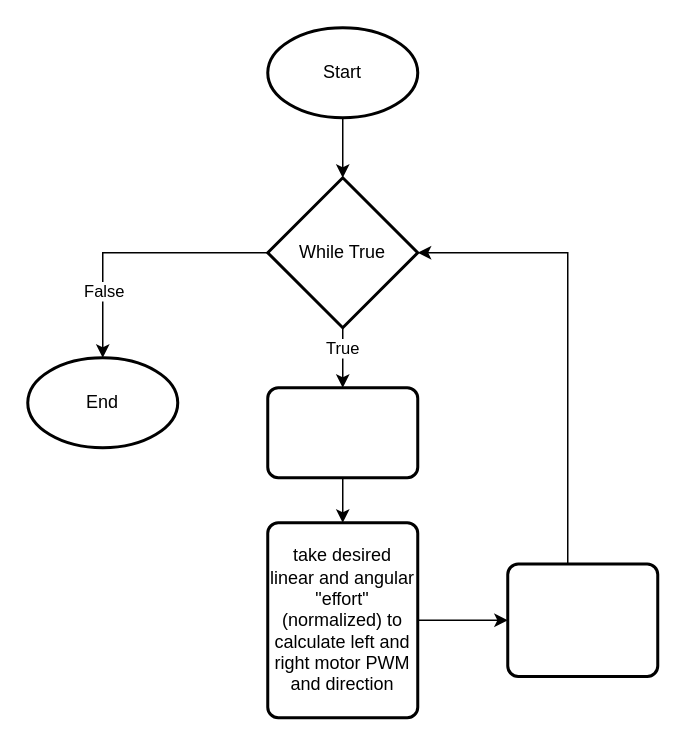
This 684x744 diagram has some shape labels left out. The box of each missing label's shape, as (x1, y1, x2, y2) in pixels:
Wait for notification (blocking): (266, 386, 418, 478)
write to motors: (506, 562, 658, 677)
